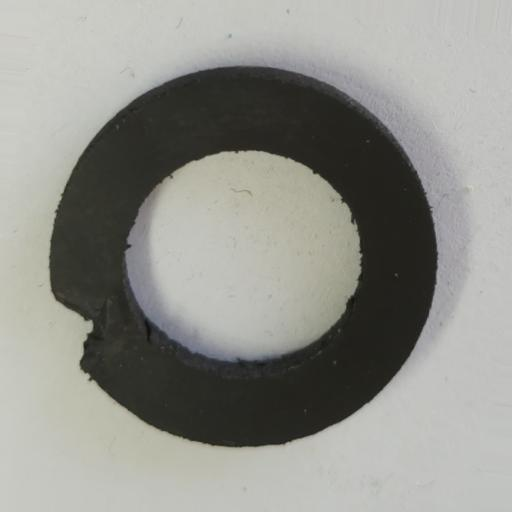defect: (54, 292, 107, 368)
